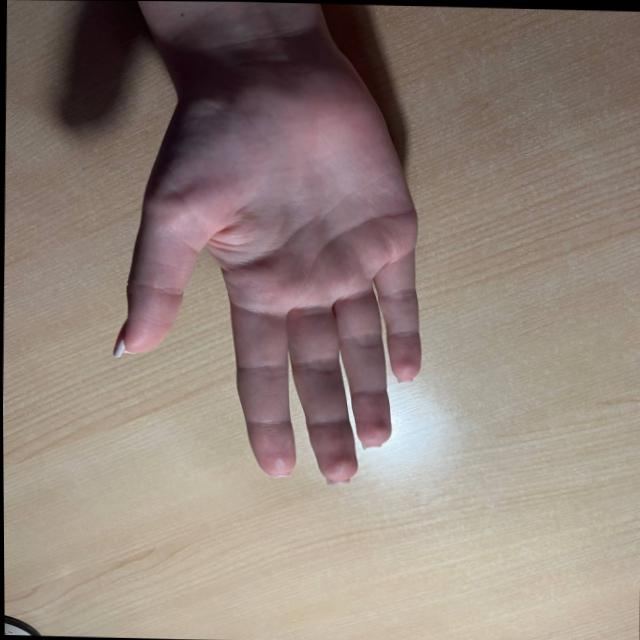v: (100, 77, 460, 480)
